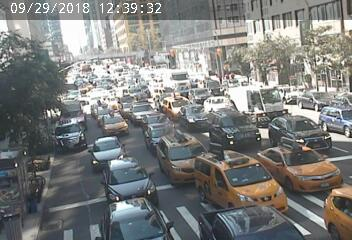car: (275, 145, 322, 180), (108, 167, 153, 200), (209, 168, 265, 193), (113, 203, 162, 231), (215, 210, 276, 232), (236, 88, 281, 115), (278, 117, 319, 140), (86, 144, 125, 166), (331, 192, 352, 232), (213, 112, 242, 137), (170, 144, 200, 168), (57, 124, 84, 149), (194, 83, 217, 108), (327, 108, 348, 133), (61, 104, 82, 125), (148, 126, 171, 142), (98, 113, 120, 129), (301, 92, 325, 106), (166, 71, 188, 85), (132, 105, 152, 119), (185, 110, 203, 124), (97, 102, 116, 113), (167, 96, 183, 109), (130, 88, 147, 98), (210, 99, 222, 112), (122, 100, 132, 113), (149, 115, 164, 123), (80, 67, 96, 74)
